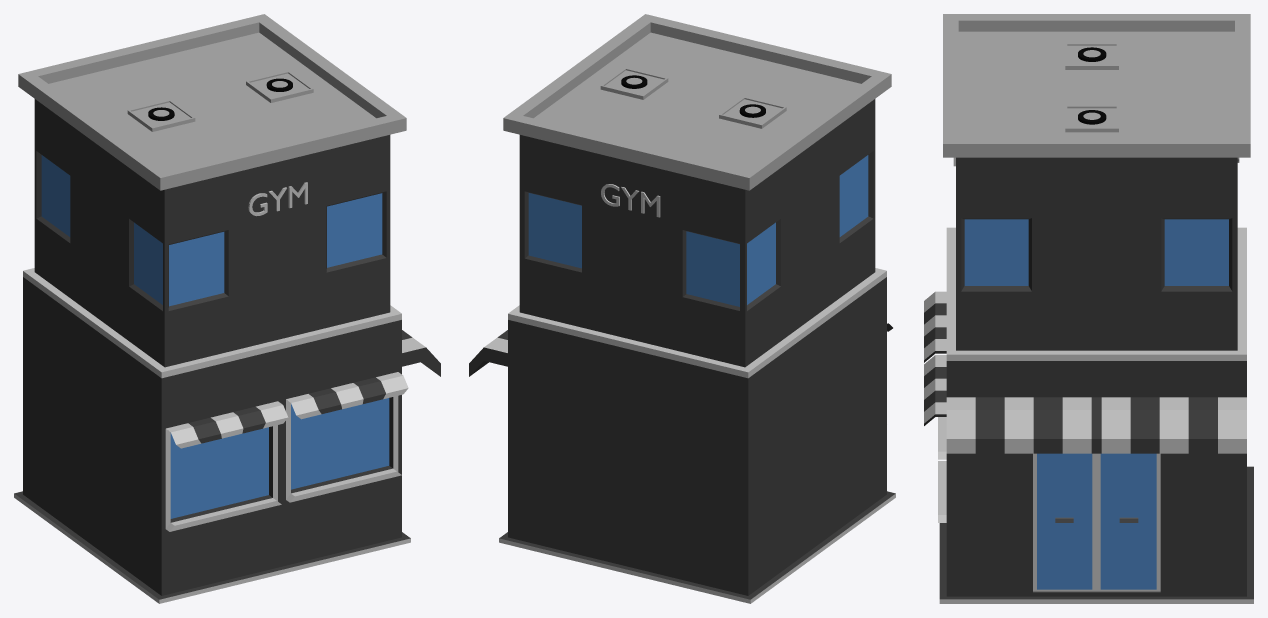
The model's file is fruit_shop_2.glb.
3 renders of one model, left to right at view 1: azimuth 30°, elevation 25°; view 2: azimuth 150°, elevation 25°; view 3: azimuth 270°, elevation 25°, orthographic. The views are drawn at different scales.
Parts seen in each view (by area): view 1: FRUIT SHOP.002_Material.062_0; view 2: FRUIT SHOP.002_Material.062_0; view 3: FRUIT SHOP.002_Material.062_0.
Part boxes in pixels (bbox=[...]): FRUIT SHOP.002_Material.062_0: bbox=[14, 14, 440, 603]; FRUIT SHOP.002_Material.062_0: bbox=[469, 14, 895, 603]; FRUIT SHOP.002_Material.062_0: bbox=[924, 14, 1253, 603].
Bounding box in the file's own units: 1.64 × 2.34 × 1.52.
1 material, 1 textured.
